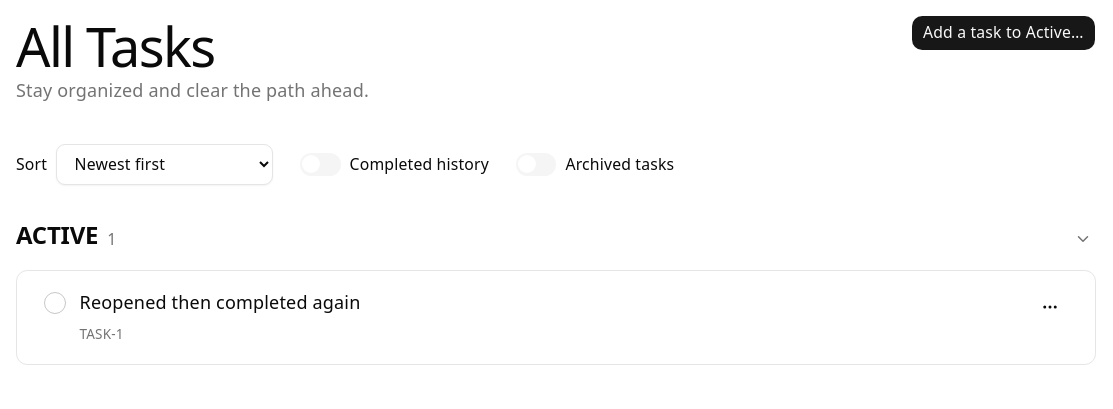
Test: TaskWorkspace › retryFailedReopenEventuallyClearsRetentionOnConfirmedSuccess
Click the checkbox named "Complete TASK-1".
click(55, 303)  # box [44,292,66,314]
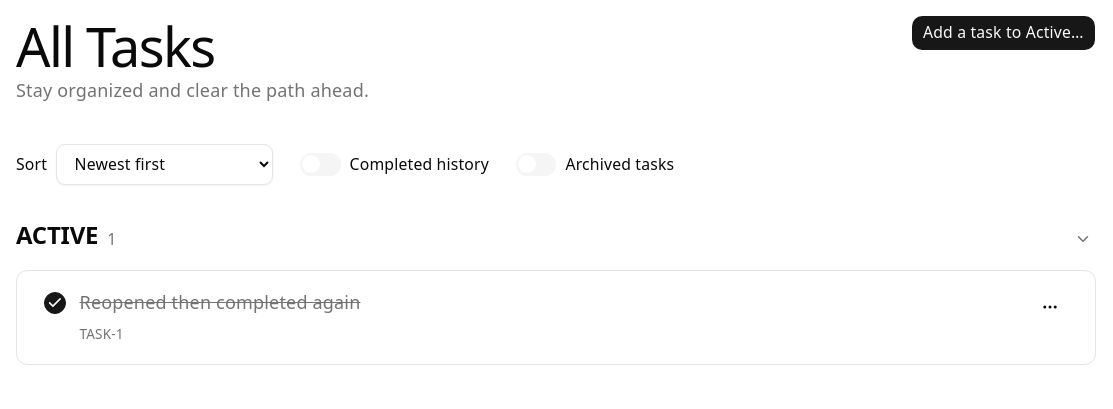
Expected: the text "Saving…" is not shown
Click the checkbox named "Reopen TASK-1".
click(55, 303)  # box [44,292,66,314]
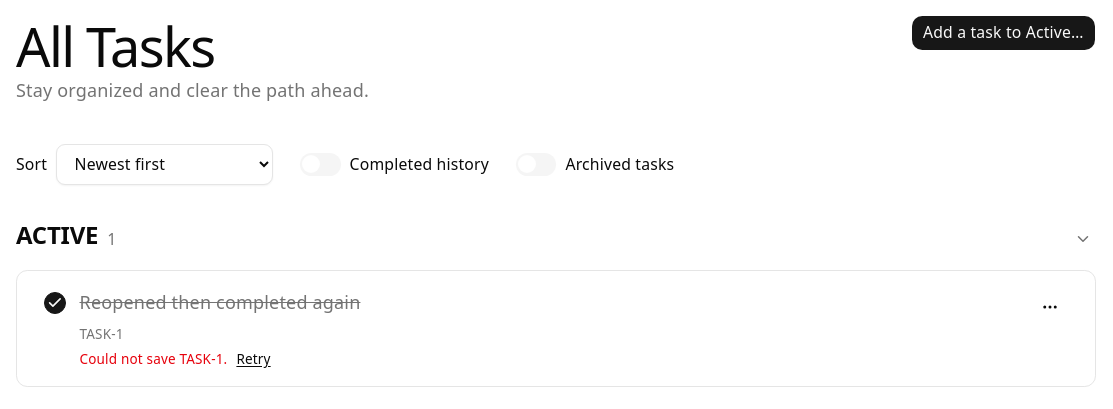
Result: the message "Could not save TASK-1. Retry" is shown at [80,350,271,368]
Click the button with aria-label "Retry TASK-1 completion save".
click(254, 359)  # box [236,350,271,368]
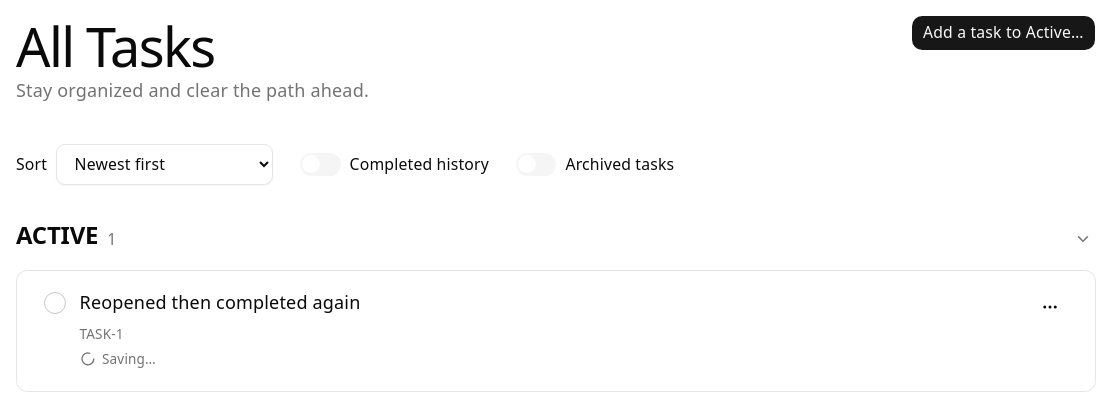
Result: the message "Could not save TASK-1. Retry" is gone
Click the checkbox named "Complete TASK-1".
click(55, 303)  # box [44,292,66,314]
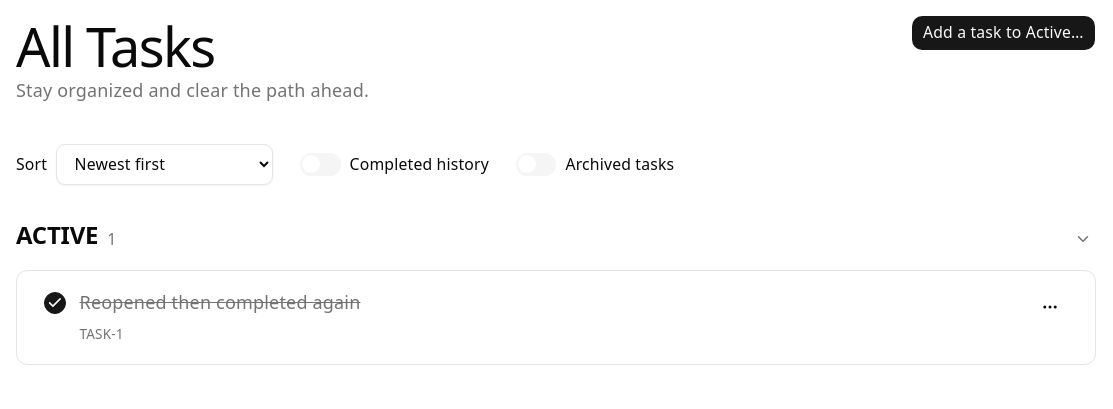
Result: the text "Saving…" is gone
